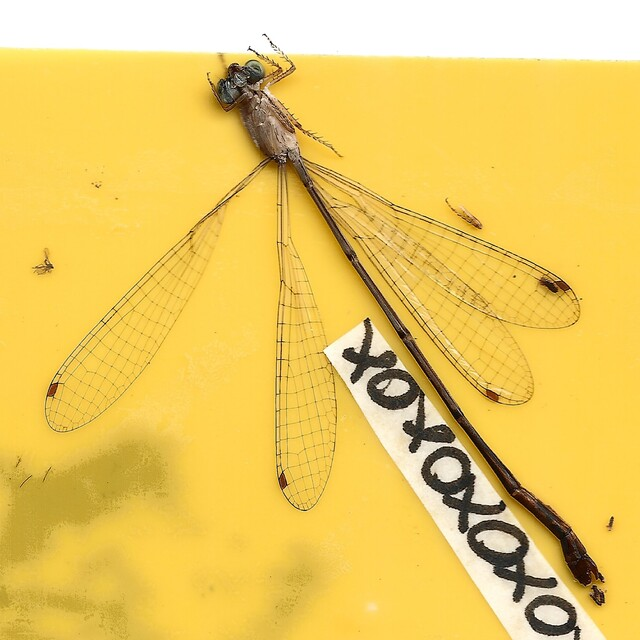Nematocera: (32, 248, 55, 278)
Odonata: (43, 34, 608, 606)
